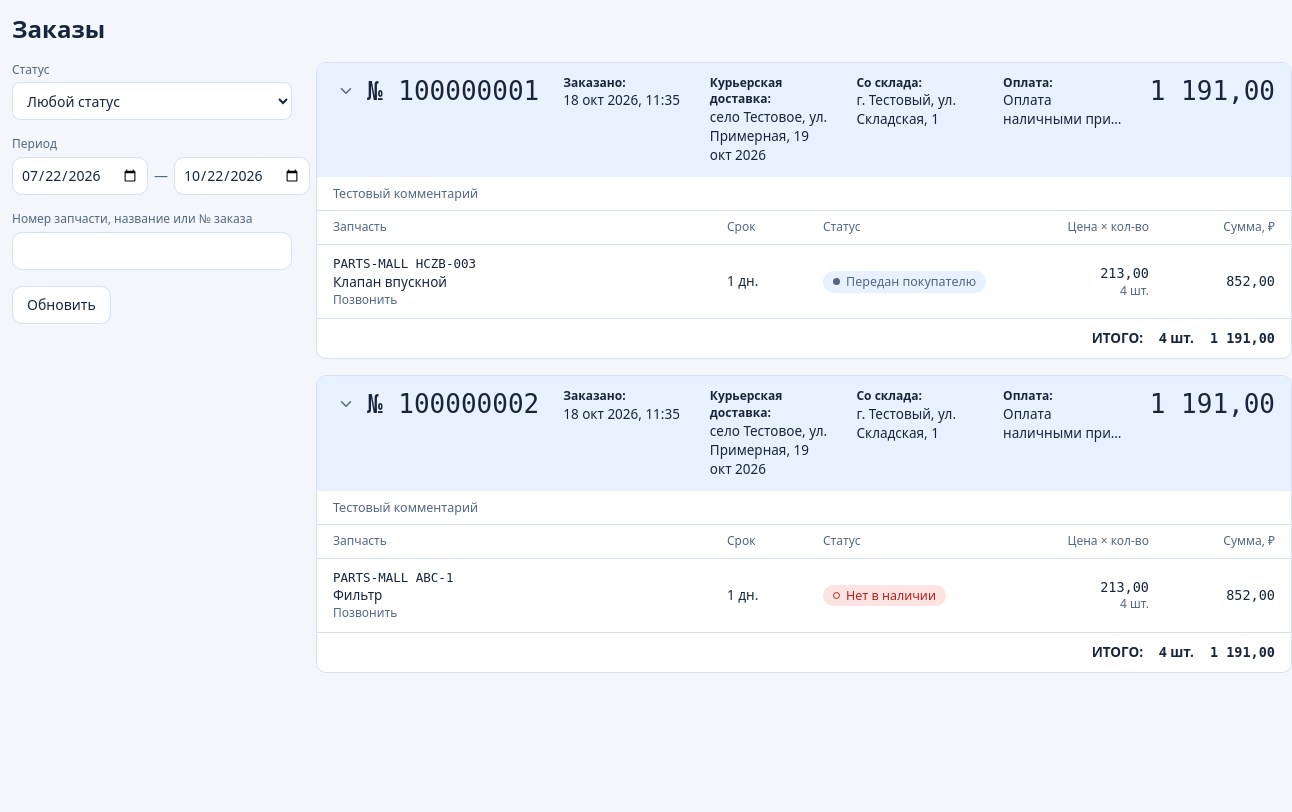
Test: OrdersPage › status filter hides orders without matching parts
The image size is (1292, 812).
Expected: the text "№ 100000001" is shown, [367, 75, 539, 107]
Select "Отказ" in the dropdown labelled "Статус": (152, 101) [12, 82, 292, 120]
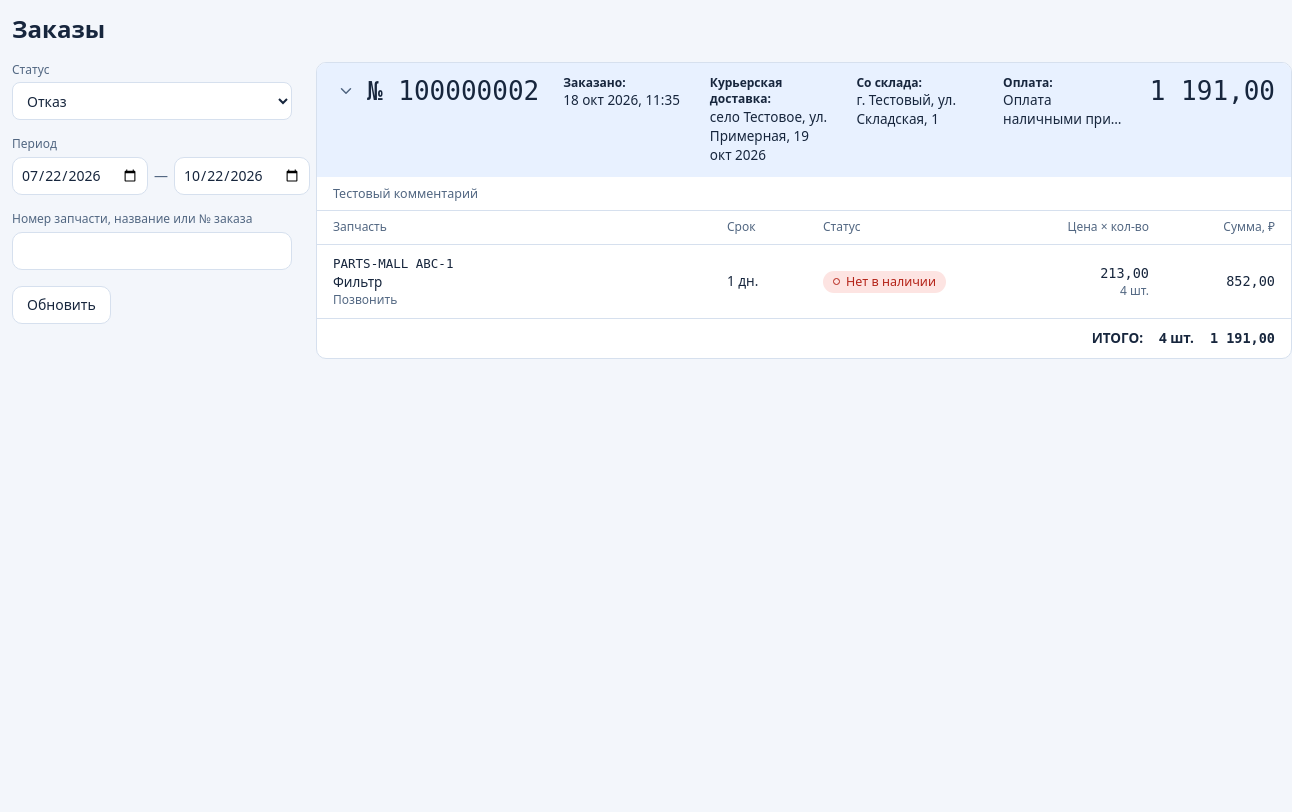
Expected: the text "№ 100000002" is shown, [367, 75, 539, 107]
Expected: the text "100000001" is gone
